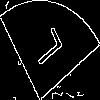L: (25, 25, 64, 73)
